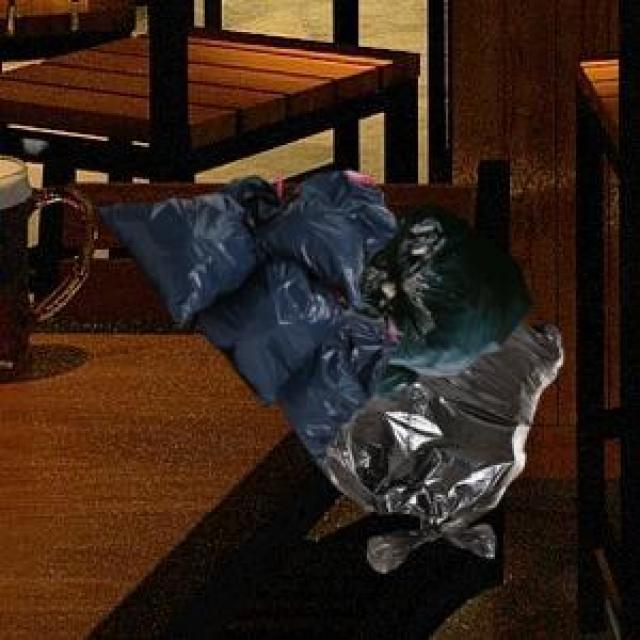waste: (102, 171, 564, 569)
